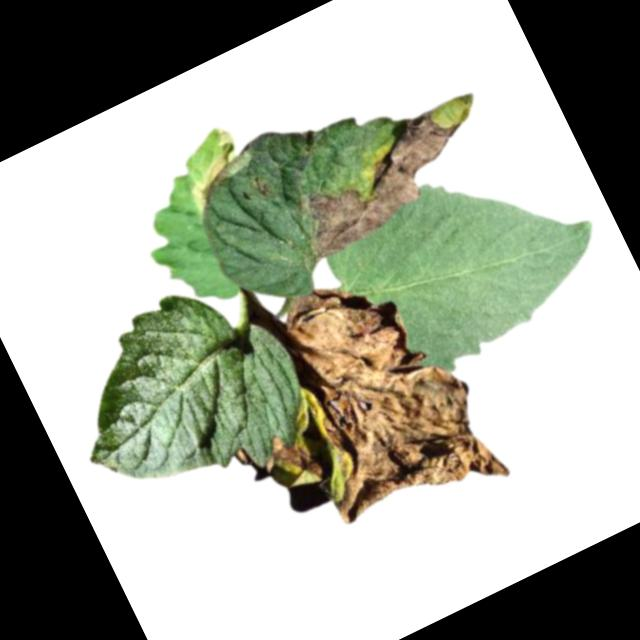Late_blight: (245, 247, 512, 552), (278, 97, 486, 262), (170, 118, 265, 212), (260, 422, 328, 495)
